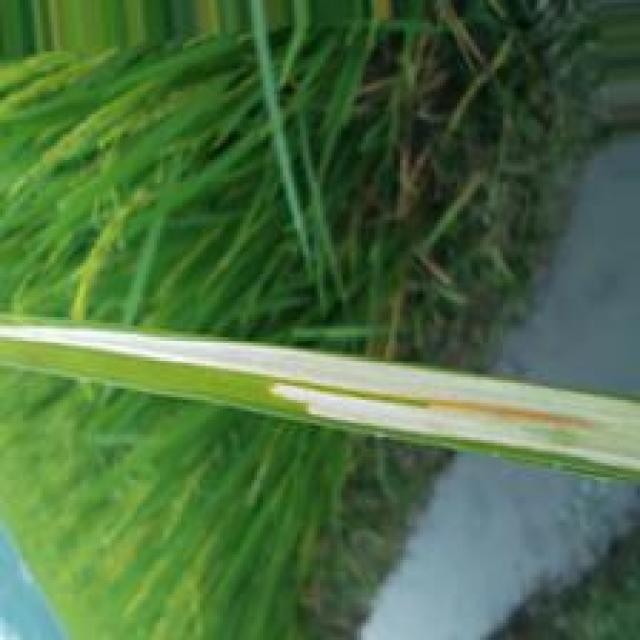Rice_Hispa: (2, 325, 640, 467)
